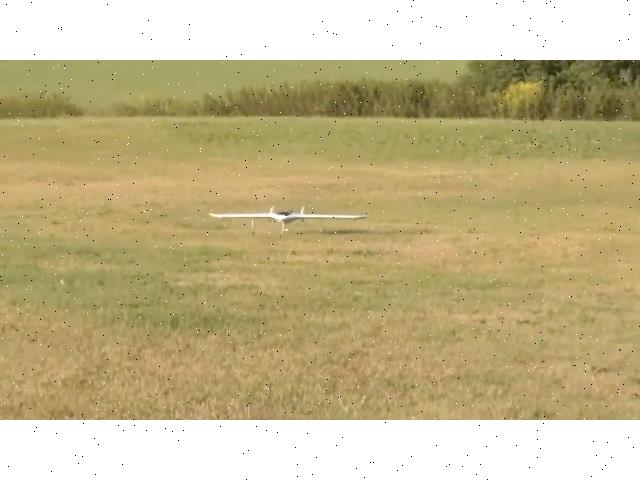Anti-Drone: (202, 184, 370, 250)
